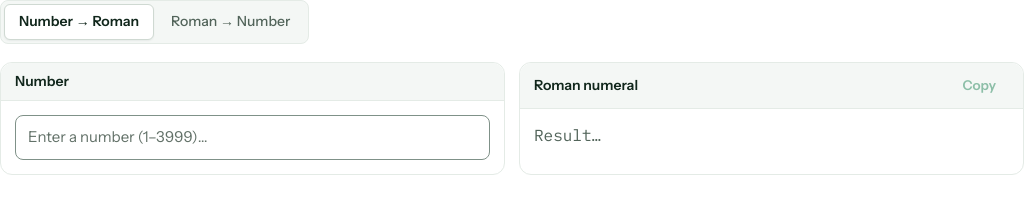
RomanNumerals › shows error for malformed Roman numeral IIII
Click the tab "Roman → Number" at (231, 22), box 156,4 -> 305,40
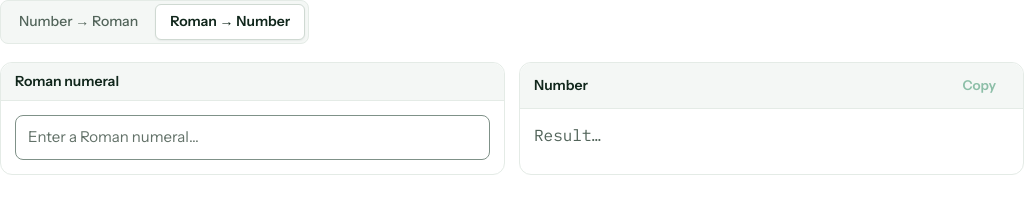
Type "IIII" into the field with placeholder "Enter a Roman numeral…" at (252, 138), box 15,115 -> 490,160
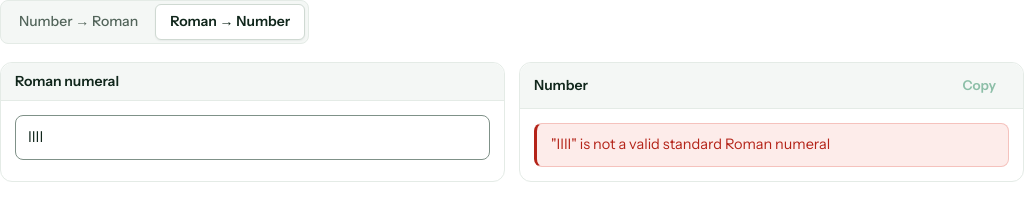
Result: the text "\"IIII\" is not a valid standard Roman numeral" is shown at 534,123 -> 1009,167
